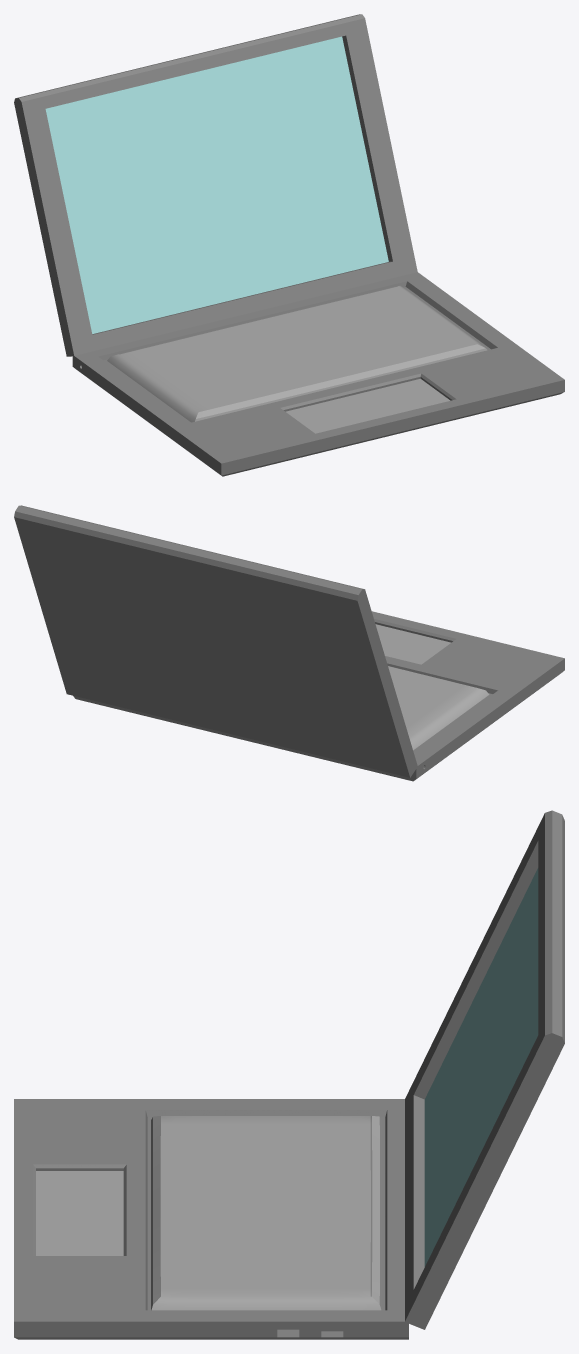
File: Laptop.fbx
3 views of the same model, one above another, from view 1: azimuth 30°, elevation 25°; view 2: azimuth 150°, elevation 25°; view 3: azimuth 270°, elevation 25° (orthographic). The views are drawn at different scales.
Visible parts, largest first — view 1: pCube3; view 2: pCube3; view 3: pCube3.
Part boxes in pixels (x1=…): pCube3: x1=14, y1=14, x2=564, y2=476; pCube3: x1=14, y1=505, x2=564, y2=781; pCube3: x1=14, y1=810, x2=564, y2=1339.
Bounding box in the file's own units: 24 × 15.5 × 25.1.
